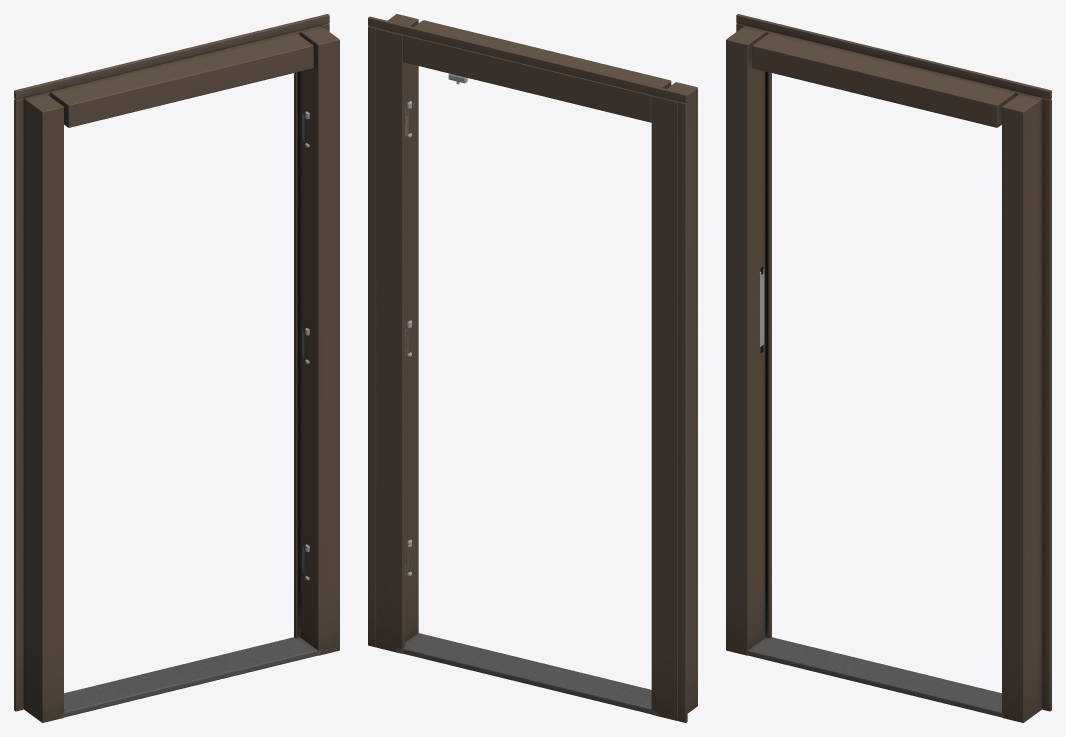
The model's file is PH_Door_Home__Frame.fbx.
The picture shows the model from 3 angles, left to right: view 1: azimuth 30°, elevation 25°; view 2: azimuth 150°, elevation 25°; view 3: azimuth 330°, elevation 25°; orthographic projection.
Parts seen in each view (by area): view 1: PH_Door_Home__Frame; view 2: PH_Door_Home__Frame; view 3: PH_Door_Home__Frame.
Part boxes in pixels (box(x1,y1,x2,y2)): PH_Door_Home__Frame: box(14, 14, 339, 722); PH_Door_Home__Frame: box(368, 14, 697, 722); PH_Door_Home__Frame: box(726, 14, 1051, 722).
Size of the model in its own units: 1.14 by 2.15 by 0.13.
